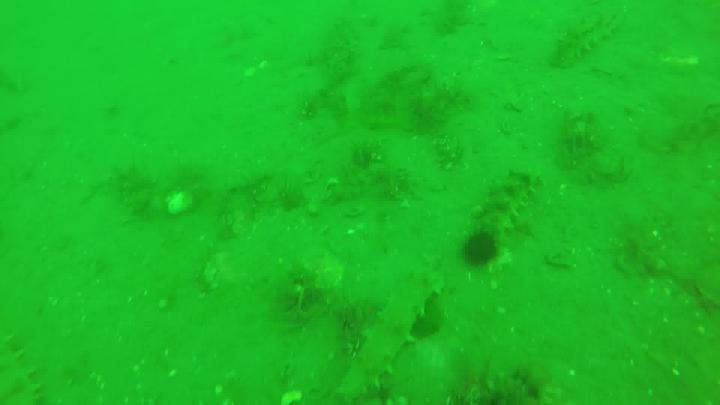echinus: (463, 232, 503, 269)
holothurian: (342, 268, 444, 405), (541, 1, 624, 64), (481, 172, 547, 245), (3, 319, 40, 405)
scallop: (165, 188, 197, 219)
